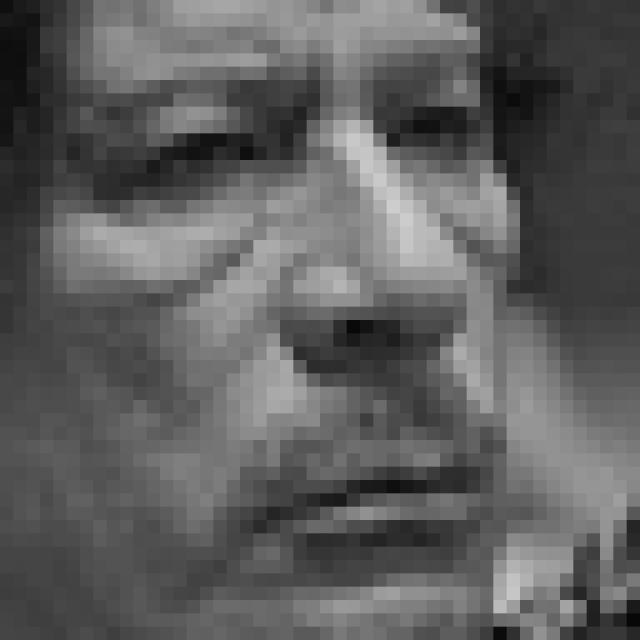sad: (67, 25, 498, 607)
